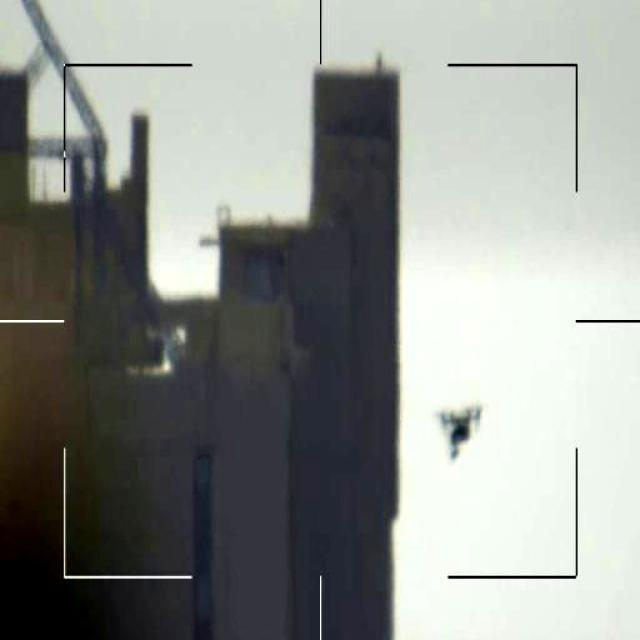bird: (432, 398, 490, 466)
